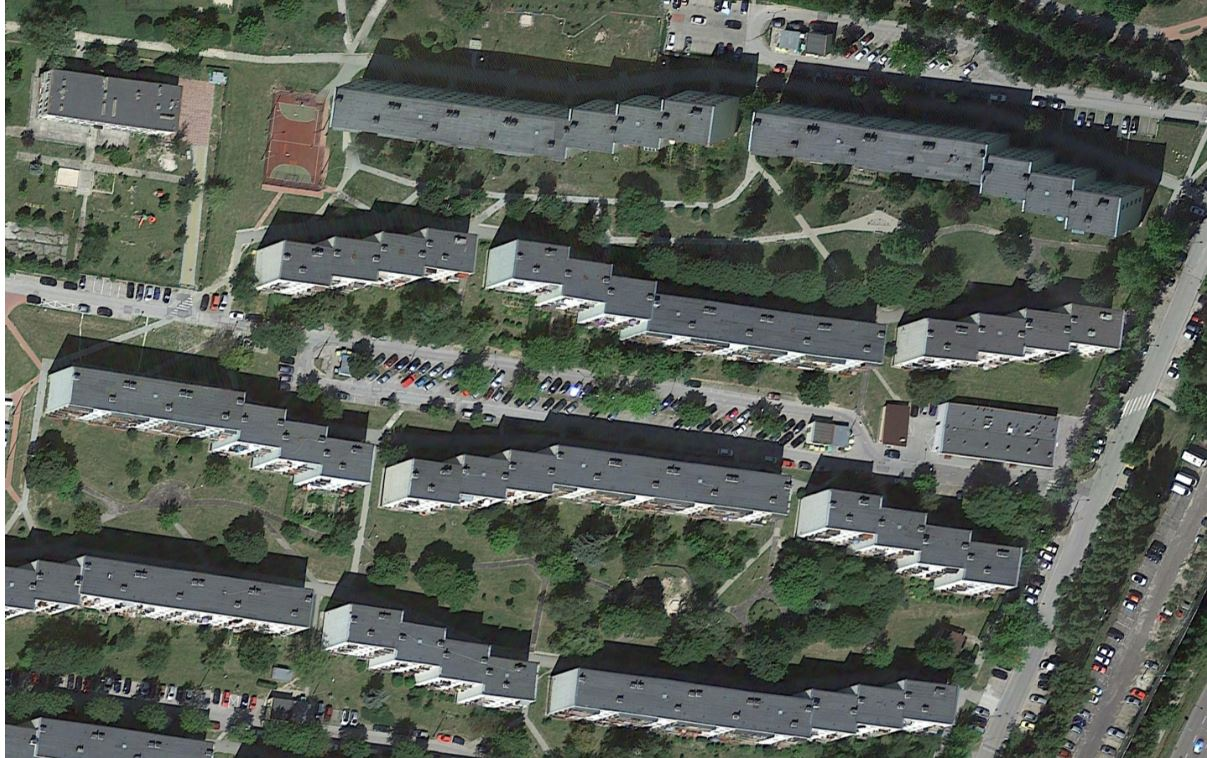block of flats: (744, 86, 1149, 248), (481, 229, 891, 371), (41, 358, 383, 495), (374, 427, 796, 532), (319, 69, 744, 172), (543, 663, 972, 749), (795, 477, 1025, 611), (318, 593, 544, 719), (1, 552, 322, 637), (241, 219, 485, 307), (893, 293, 1141, 375), (28, 58, 191, 148), (923, 394, 1071, 472)
